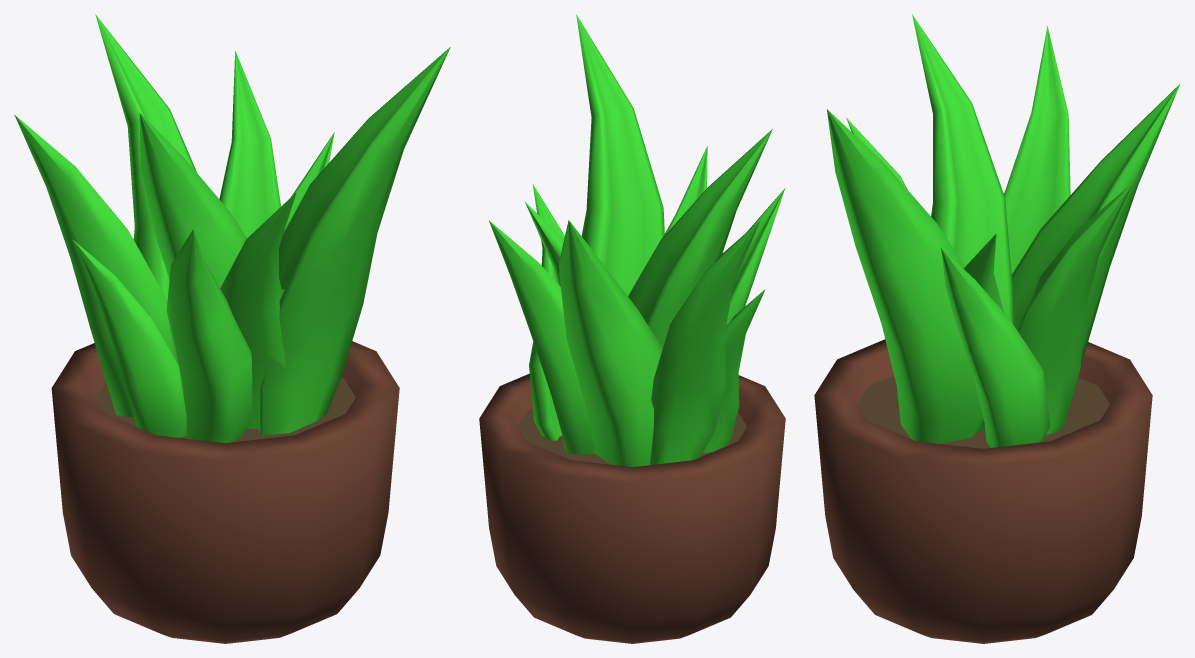
The model's file is PotPlant.dae.
3 views of the same model, side by side, from view 1: azimuth 30°, elevation 25°; view 2: azimuth 150°, elevation 25°; view 3: azimuth 270°, elevation 25° (orthographic). The views are drawn at different scales.
Visible parts, largest first — view 1: Leafs, Pot; view 2: Leafs, Pot; view 3: Leafs, Pot.
Boxes of the visible parts, <box> form: Leafs: <box>14,14,450,442</box>; Pot: <box>51,341,399,643</box>; Leafs: <box>489,14,785,466</box>; Pot: <box>479,373,785,643</box>; Leafs: <box>827,14,1180,447</box>; Pot: <box>814,339,1152,643</box>.
Size of the model in its own units: 2.35 by 2.33 by 3.93.
